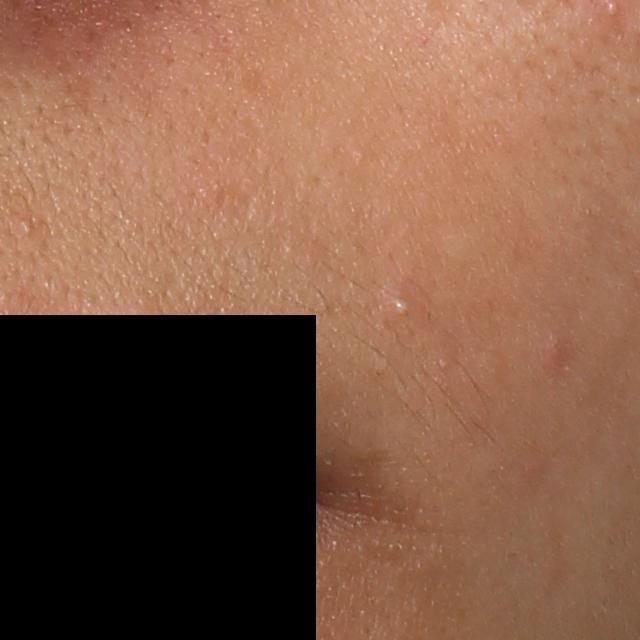comedo: (18, 218, 34, 234)
papule: (537, 332, 571, 382)
pustule: (385, 291, 416, 325)
